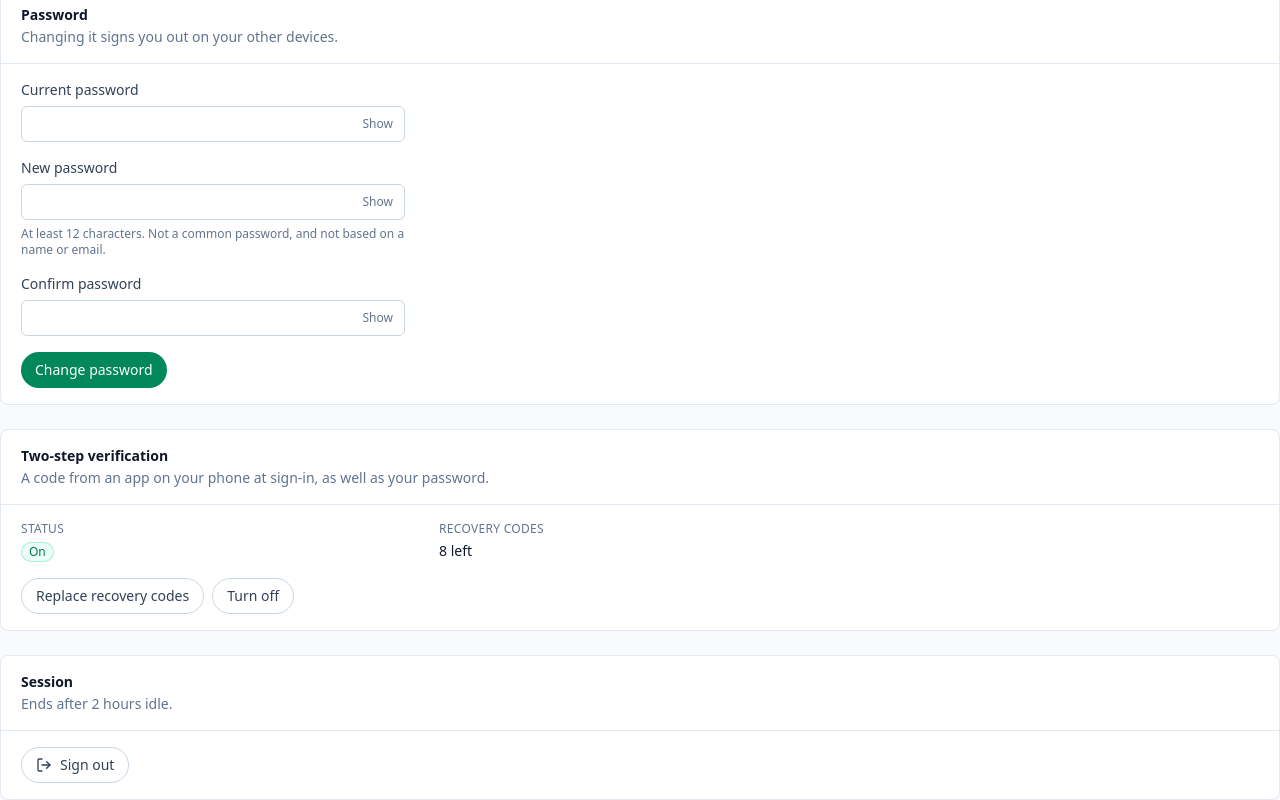
it: ProfilePage: two-step verification (ADR-0033) › turns it off with the password and a code, after a warning
(page scrolled)
Click the button "Turn off" at x=253, y=596, box top-left (212, 578), bottom-right (294, 614)
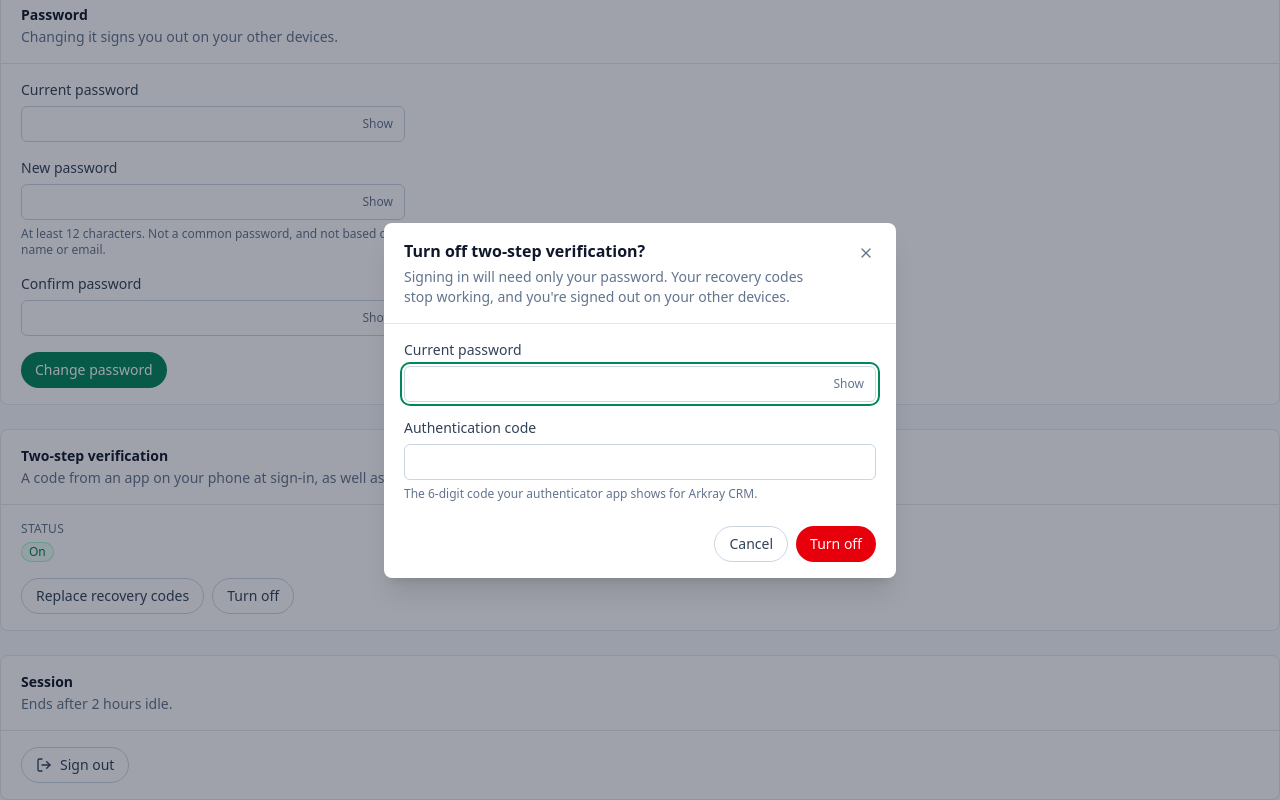
Type "my passphrase" into the password field labelled "Current password" at x=640, y=384, box top-left (404, 366), bottom-right (876, 402)
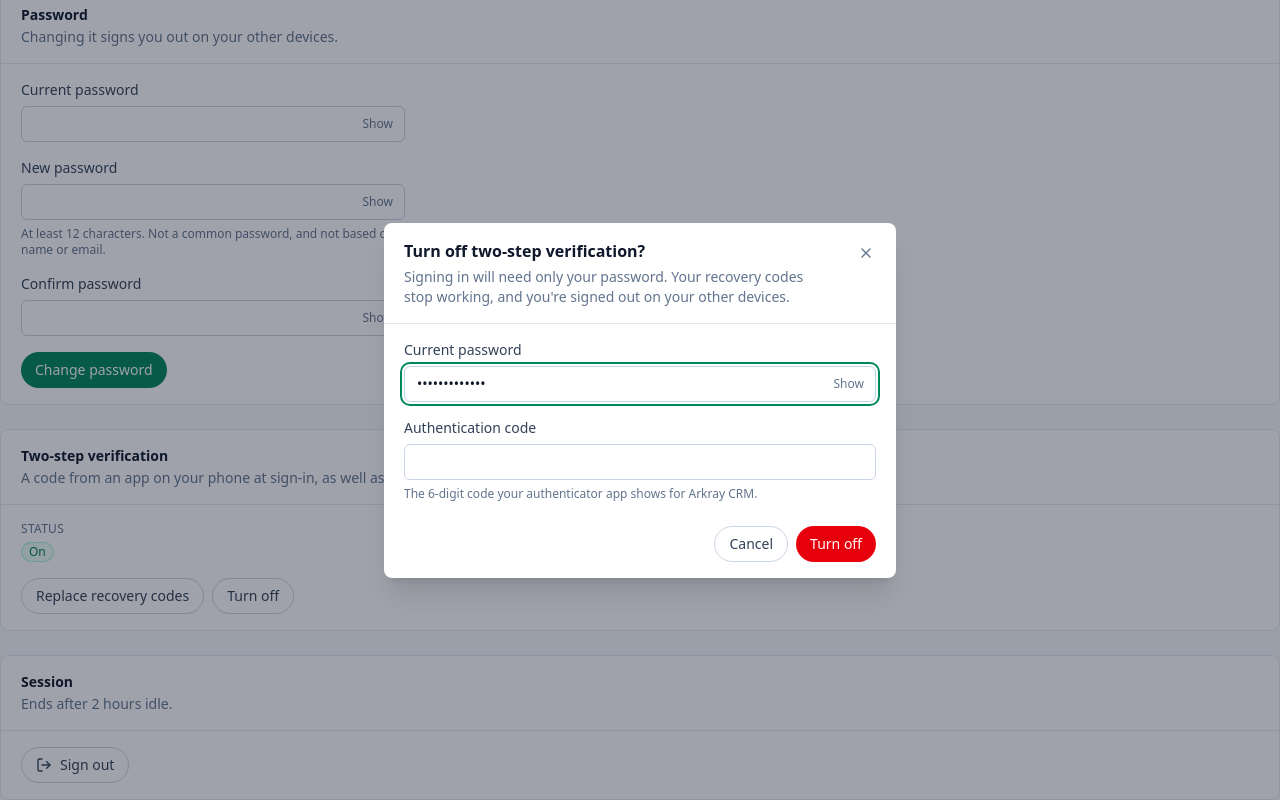
Type "123456" into the field labelled "Authentication code" at x=640, y=462, box top-left (404, 444), bottom-right (876, 480)
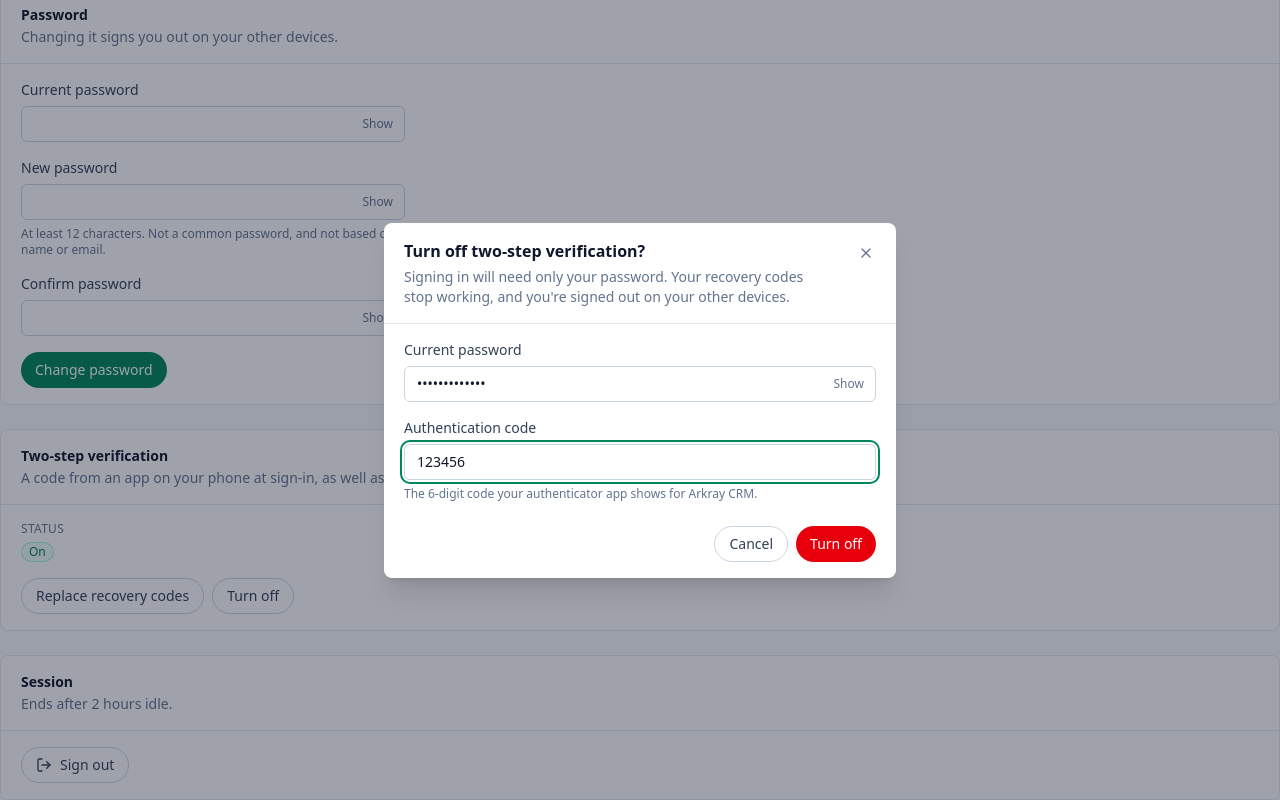
Click the button "Turn off" at x=836, y=544, box top-left (796, 526), bottom-right (876, 562)
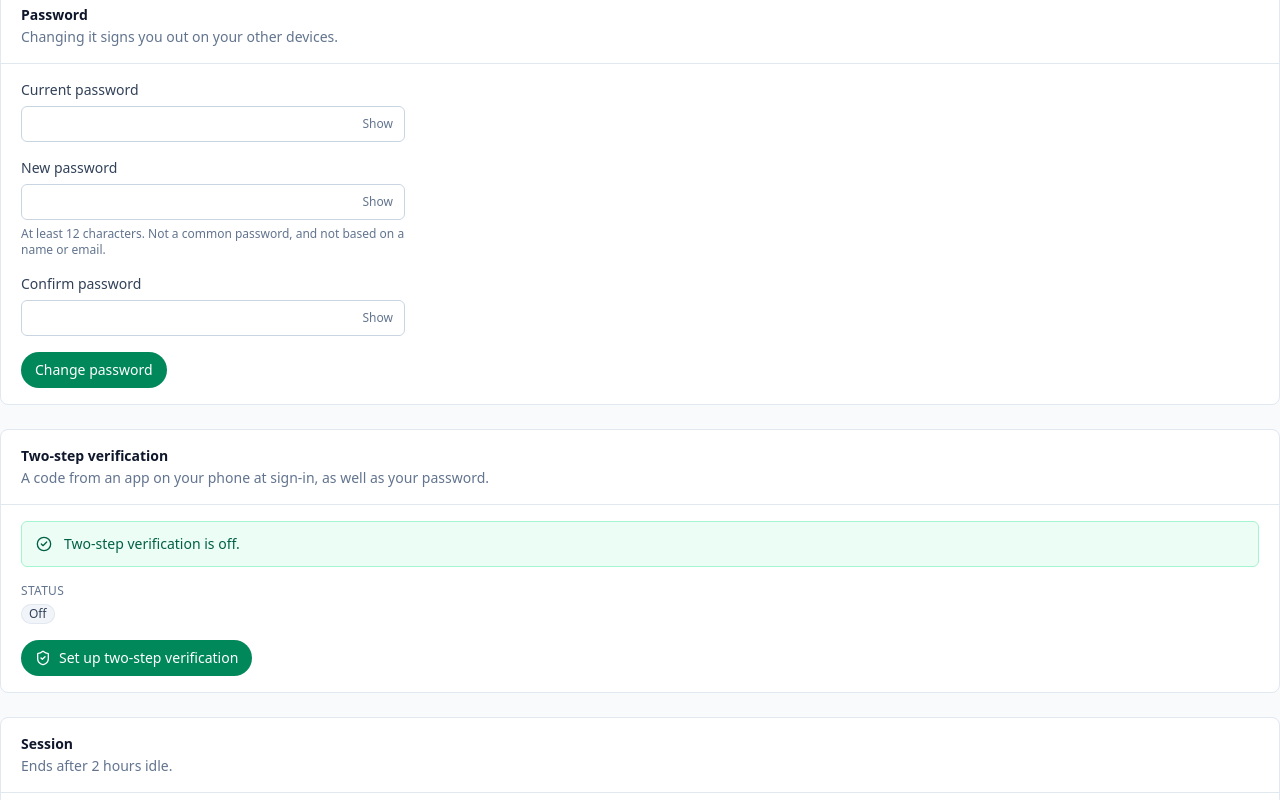
Expected: the dialog is gone
Expected: the text "Off" is shown, top-left (21, 604), bottom-right (55, 624)
